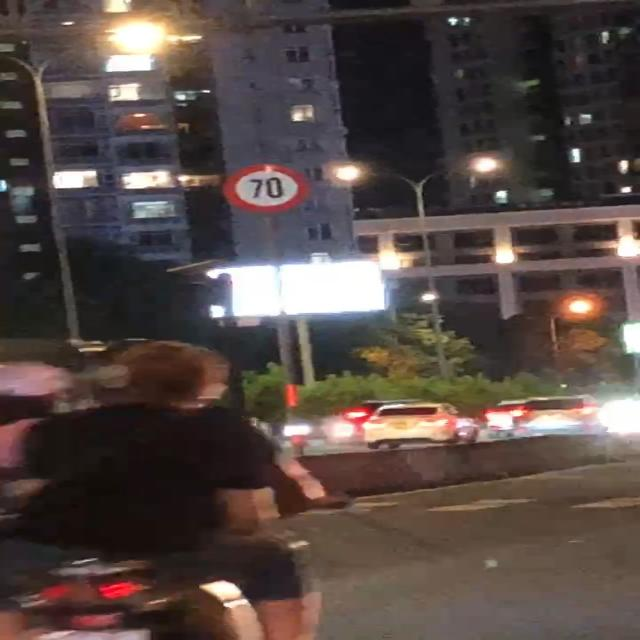Bien bao toc do toi da cho phep: (218, 162, 318, 218)
